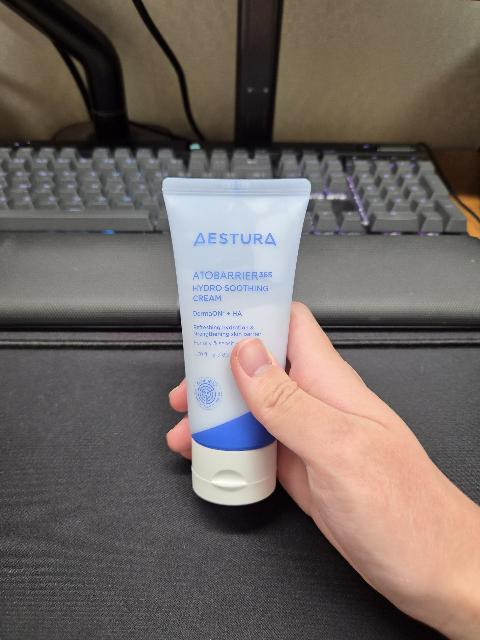handcream: (162, 177, 312, 505)
